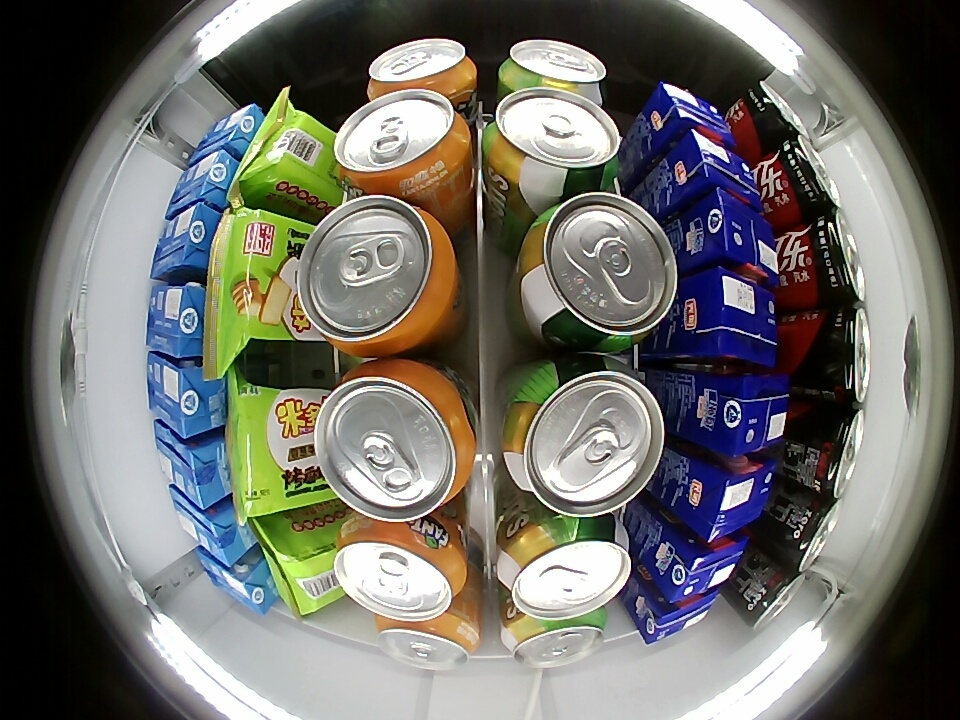bingqilinniunai: (676, 265, 778, 365), (677, 455, 779, 543), (681, 188, 778, 276), (692, 371, 791, 457), (665, 129, 759, 208), (648, 531, 749, 603), (644, 82, 734, 151), (634, 585, 719, 644)
fenda: (314, 359, 476, 520), (298, 194, 459, 355), (334, 89, 473, 197), (334, 516, 465, 621), (367, 37, 477, 101), (375, 614, 481, 671)
kaomo_xiangcon: (206, 211, 316, 343), (228, 387, 329, 516), (237, 102, 340, 208), (257, 511, 340, 617)
lingdukele: (803, 306, 873, 404), (801, 400, 867, 498), (800, 210, 866, 308), (772, 491, 844, 573), (770, 133, 840, 216), (730, 554, 804, 631), (738, 81, 808, 157)
quchenshixiangcao: (500, 353, 666, 518), (520, 191, 677, 352), (480, 86, 622, 194), (497, 514, 632, 621), (498, 39, 609, 106), (500, 606, 607, 668)
weitanai: (145, 352, 226, 439), (153, 420, 229, 509), (170, 487, 252, 564), (150, 202, 222, 281), (196, 545, 272, 613), (166, 150, 239, 217), (146, 282, 207, 358), (192, 104, 265, 164)
